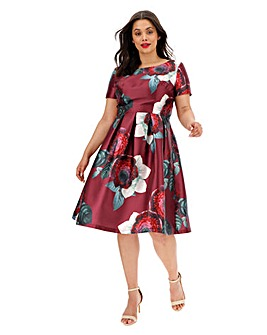C_dress: (72, 61, 200, 240)
